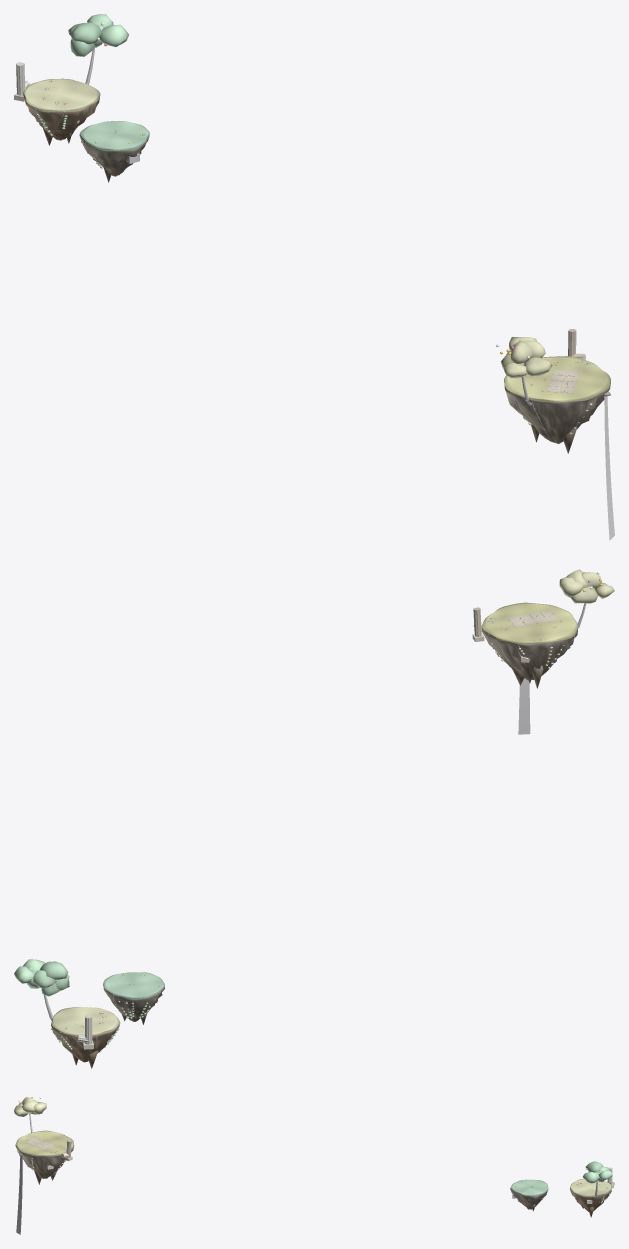
File: SM_Sky_D.fbx
3 renders of one model, top to bottom at view 1: azimuth 30°, elevation 25°; view 2: azimuth 150°, elevation 25°; view 3: azimuth 270°, elevation 25°, orthographic. The views are drawn at different scales.
Parts seen in each view (by area): view 1: SM_Sky_D; view 2: SM_Sky_D; view 3: SM_Sky_D.
Part boxes in pixels (x1,y1,x2,y2): SM_Sky_D: [14, 14, 614, 540]; SM_Sky_D: [14, 569, 614, 1068]; SM_Sky_D: [14, 1097, 614, 1234].
Bounding box in the file's own units: 1106 × 1568 × 7497.
